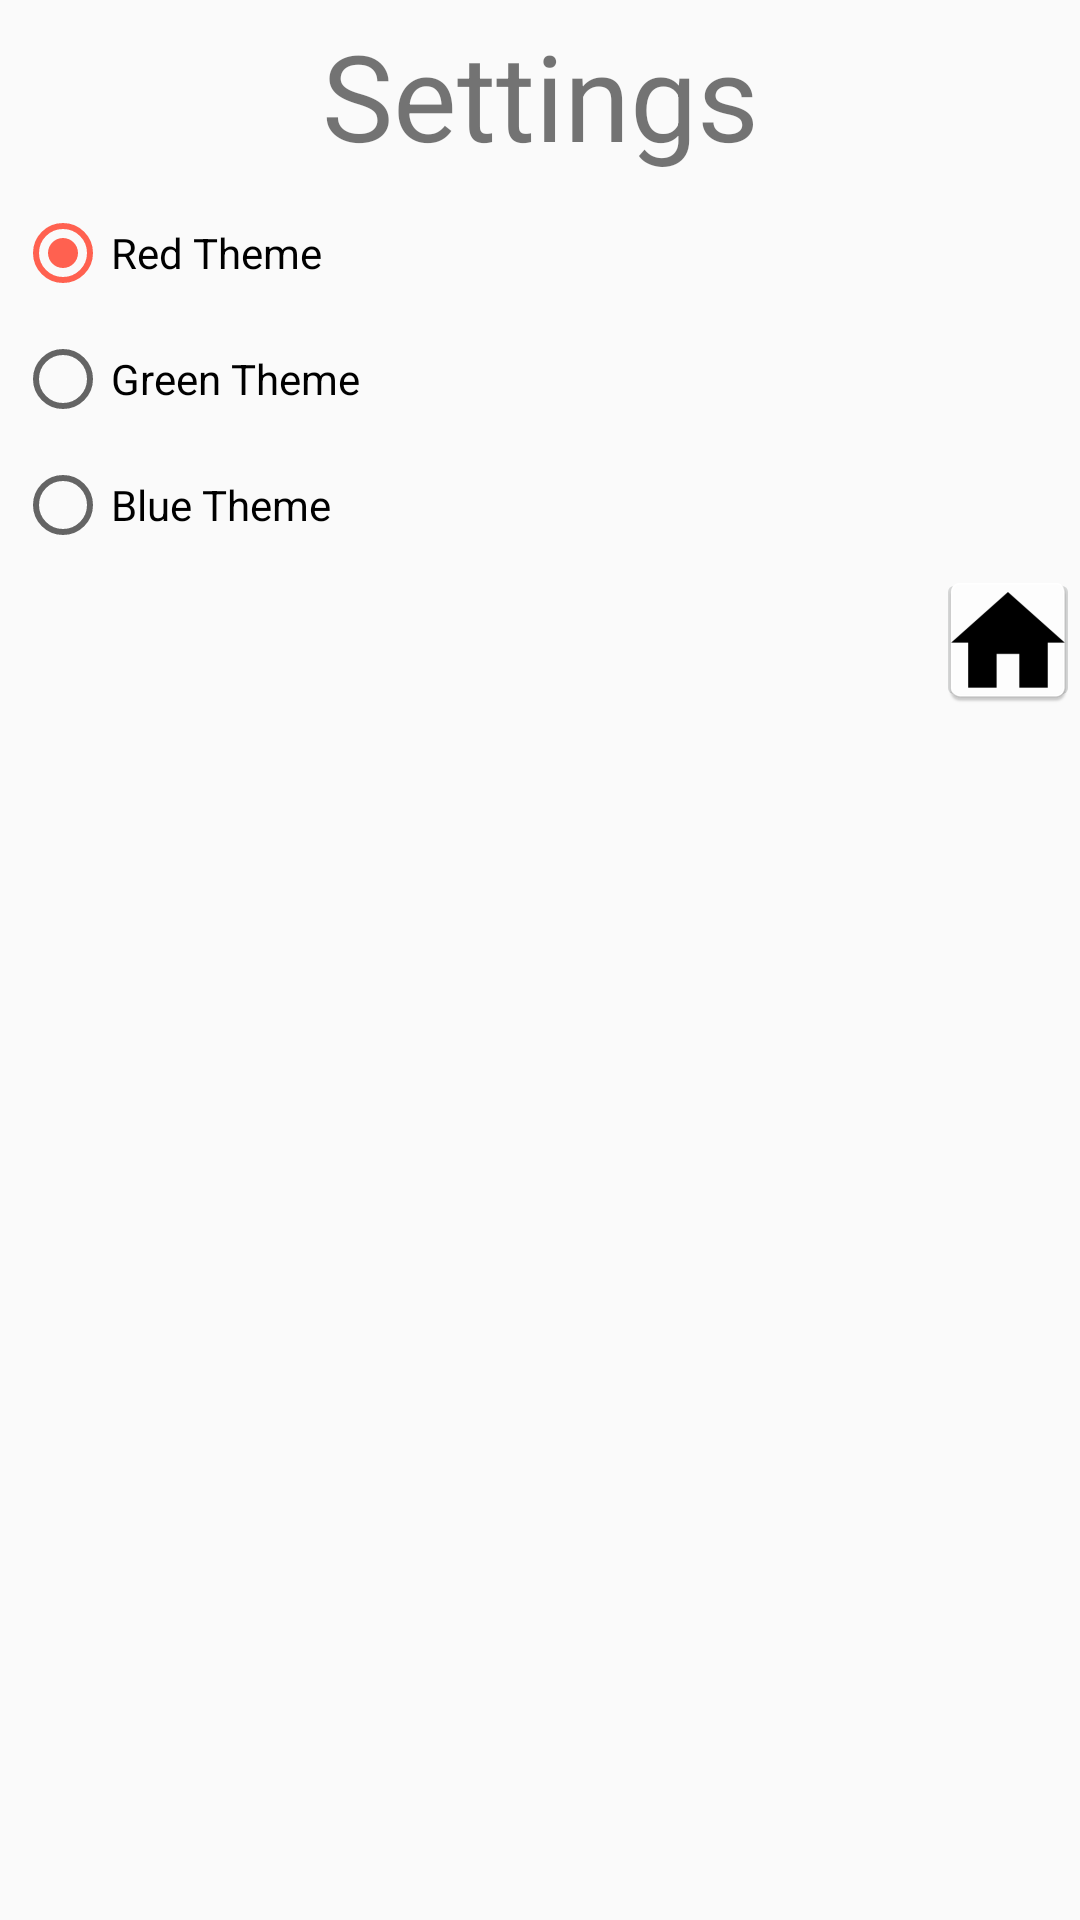

Where icons sit on this 1080*1920 app screen, as detection(x1, y1, x2, y2):
home: detection(948, 586, 1068, 701)
